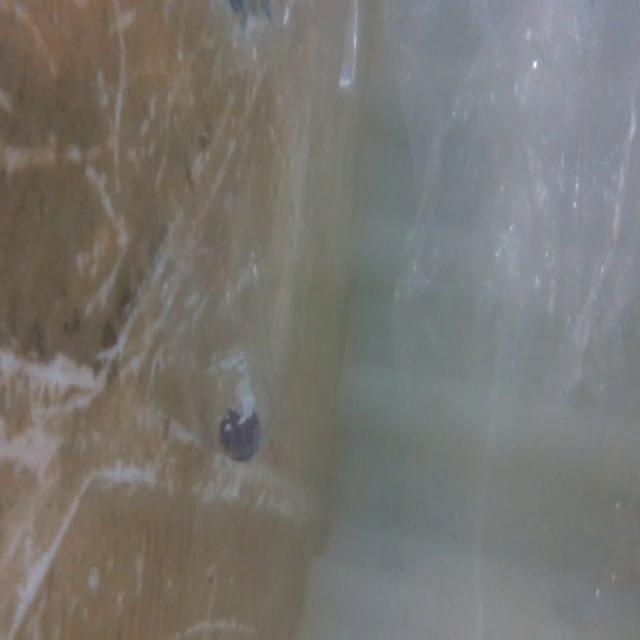plastic bags: (382, 0, 634, 483), (196, 0, 370, 117)
plastic bottle: (138, 156, 280, 472)
